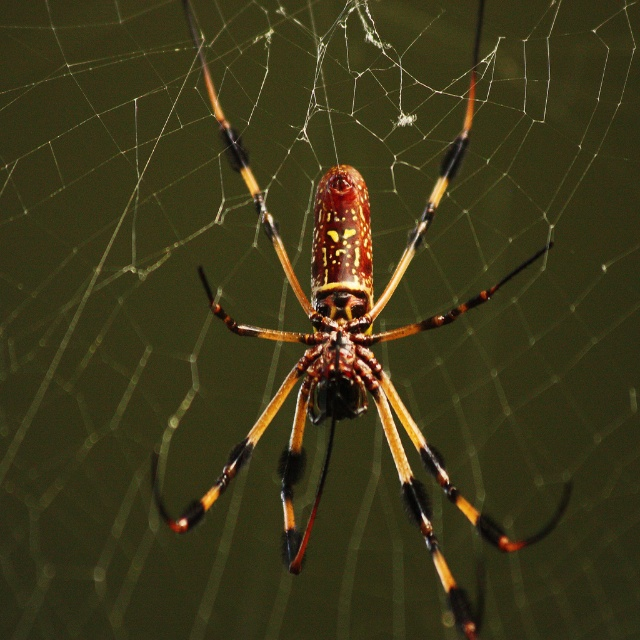Spider: (150, 0, 572, 639)
